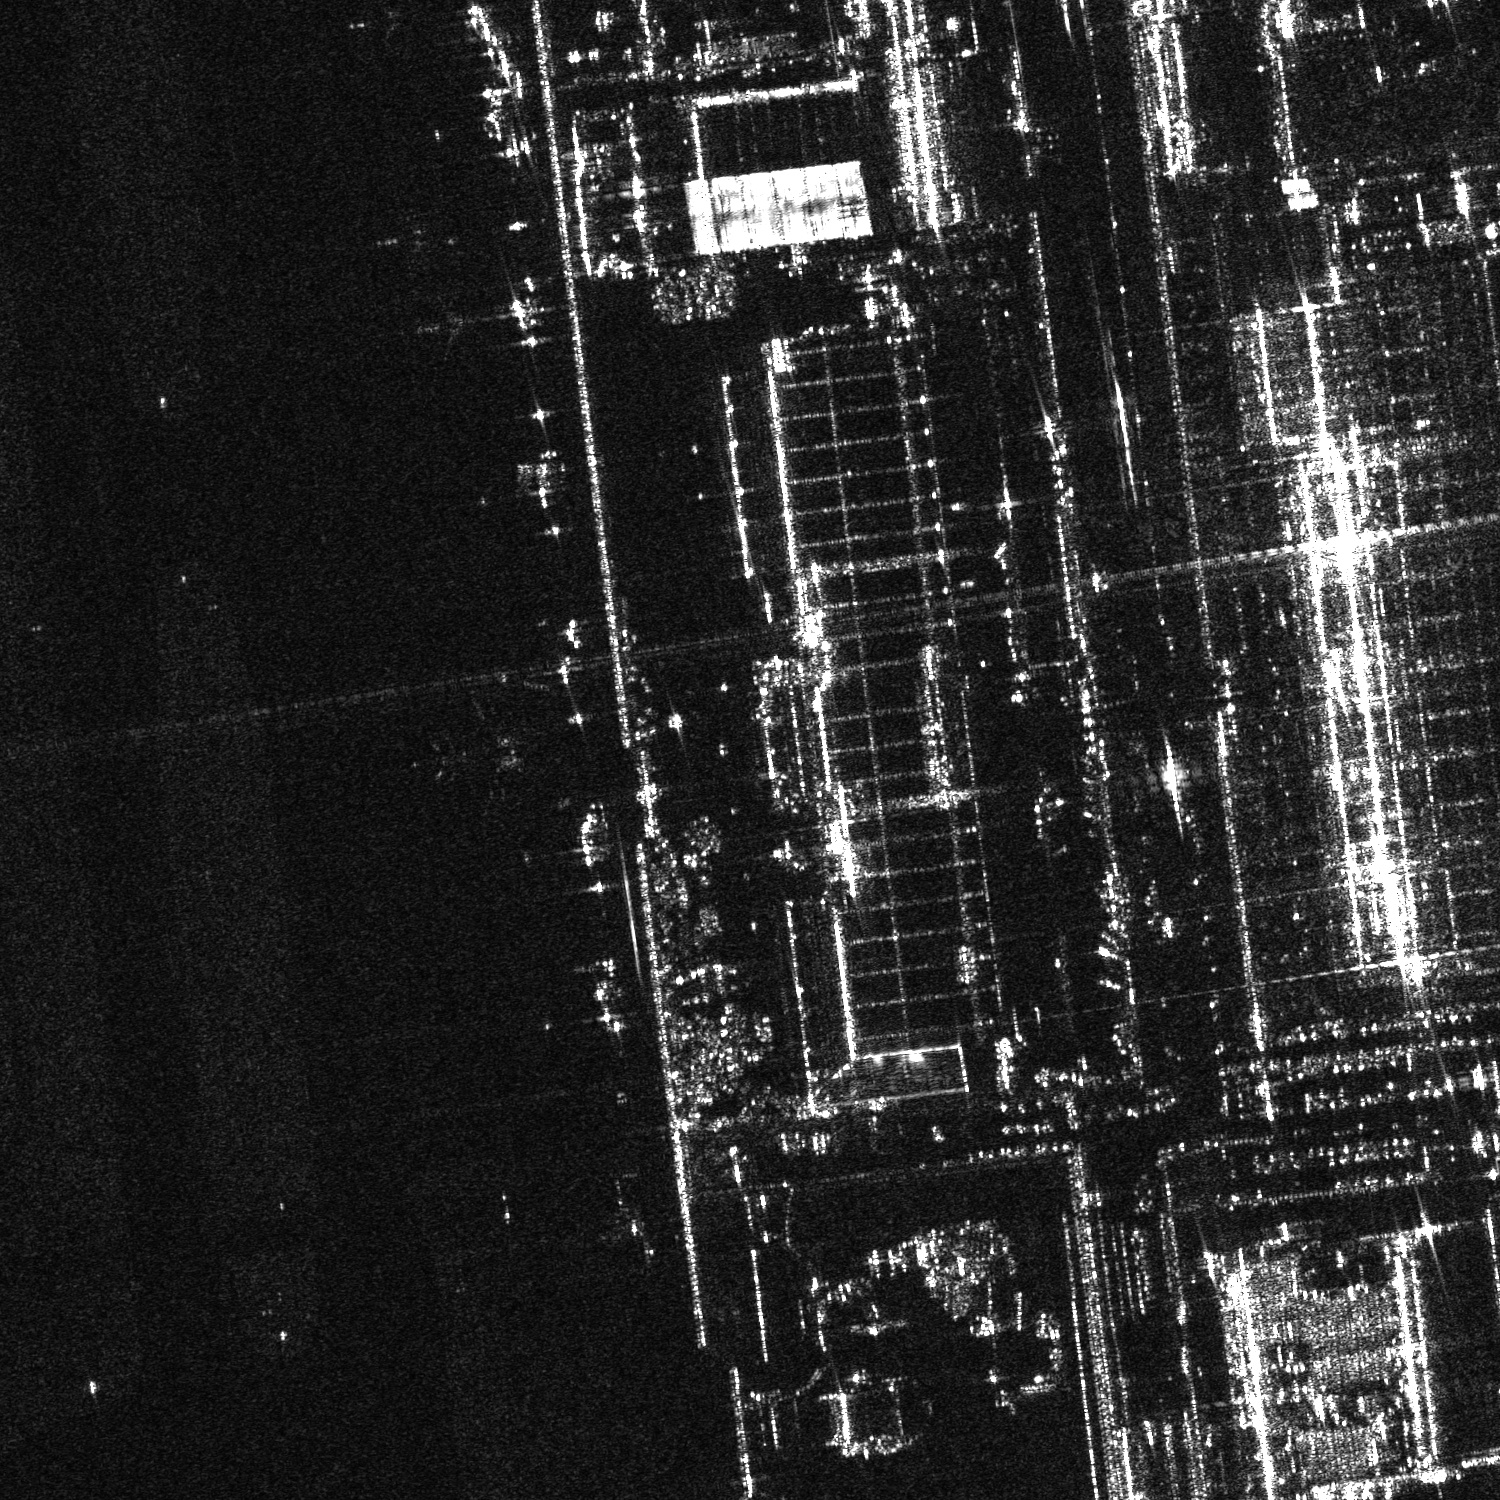A220: (413, 288, 479, 363)
Boeing787: (412, 702, 541, 810)
